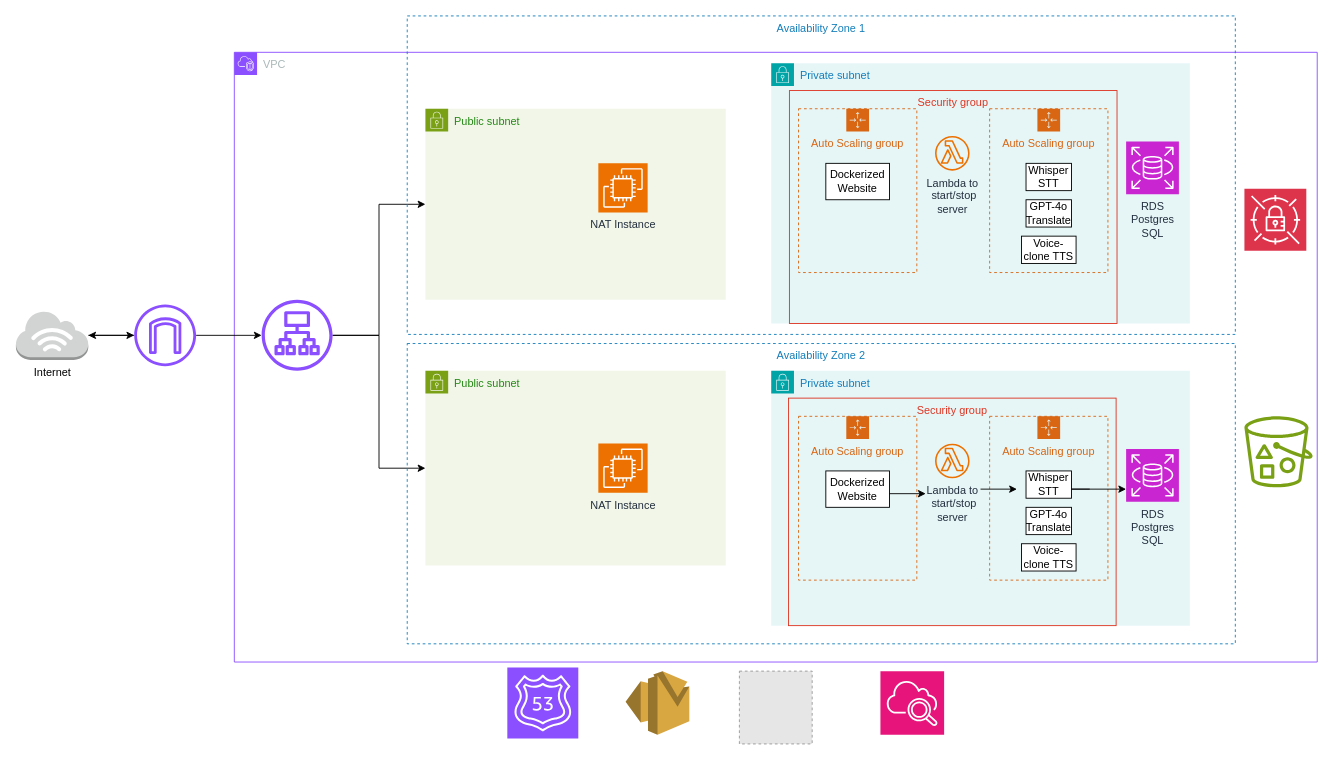
This 1333x774 diagram has some shape labels left out. Grey dashed boxes stand in for pictures. Each missing label, with the box of its shape:
ALB: (261, 299, 332, 370)
CloudWatch: (880, 670, 944, 735)
Internet GateWay: (134, 304, 196, 366)
Route 53: (506, 667, 578, 738)
S3 Bucket: (1244, 416, 1312, 487)
Secrets manager: (1244, 188, 1306, 251)
SES: (625, 670, 689, 735)
